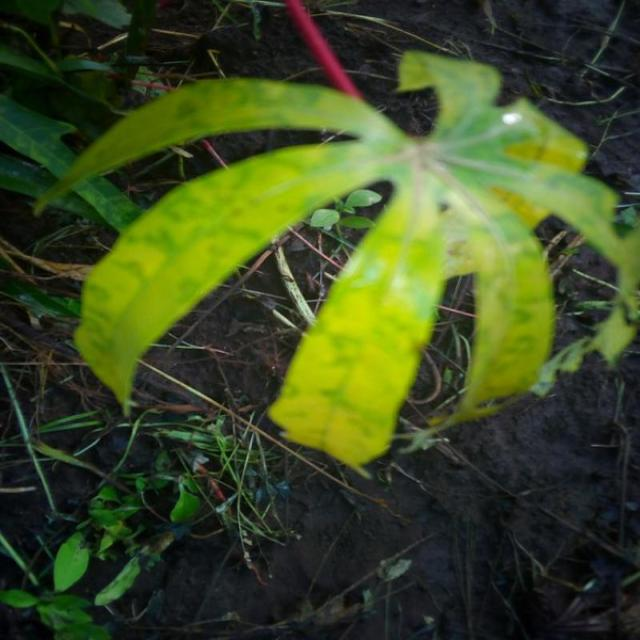cassava leaf: (38, 49, 634, 476)
